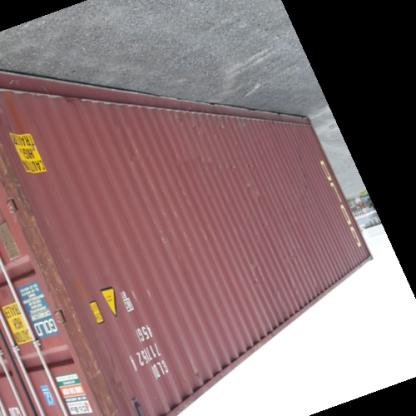Damage: (6, 154, 89, 362), (71, 341, 125, 415)
